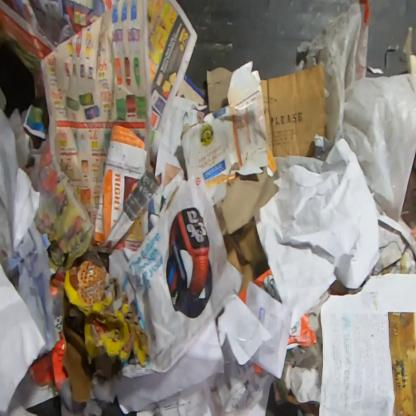cardboard: (26, 265, 93, 405), (63, 259, 148, 369), (181, 99, 264, 206), (259, 62, 327, 157), (227, 60, 269, 176), (214, 167, 280, 237), (223, 217, 266, 291), (206, 66, 232, 112)
metal: (366, 44, 400, 76)
soft_plastic: (296, 0, 415, 221)
